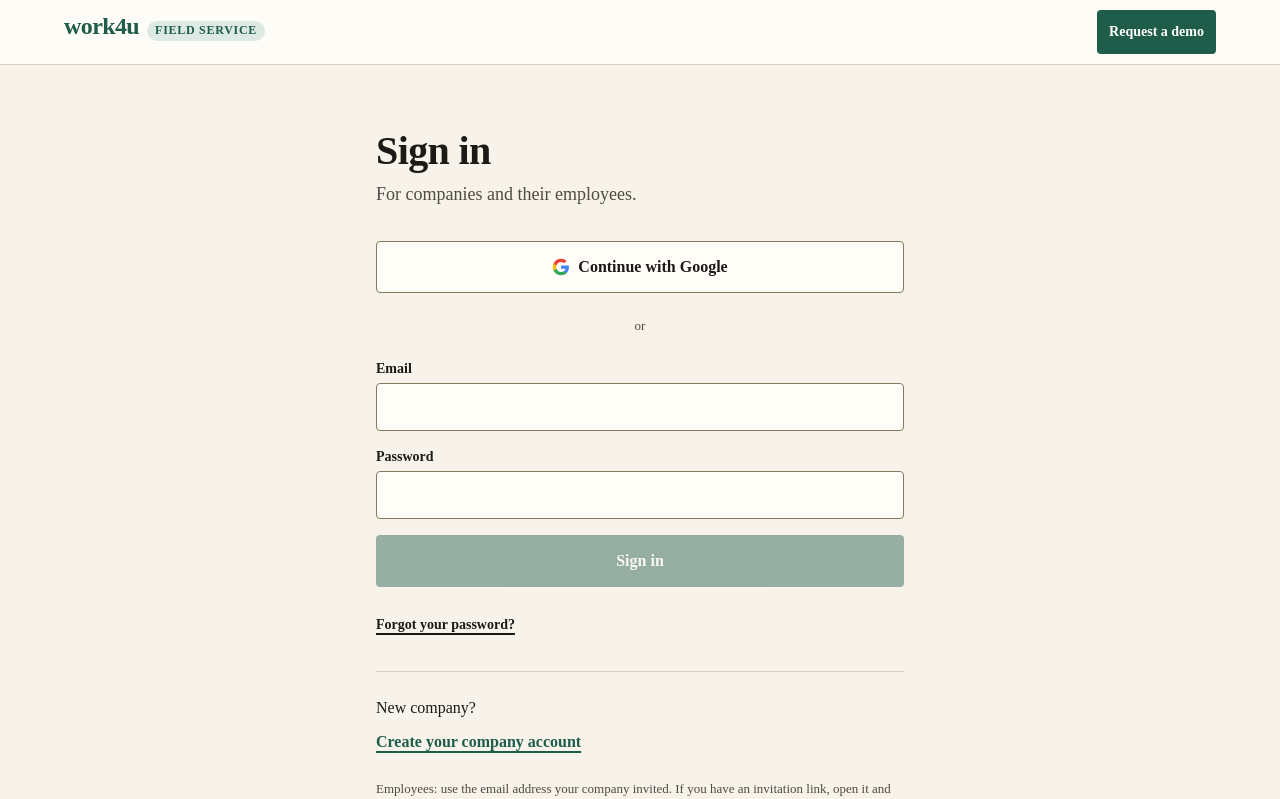
B2B sign-in › wrong credentials show a clear message and focus it; a closed Google popup shows nothing
The width and height of the screenshot is (1280, 799).
Type "a@b.co" into the field labelled "Email". click: (640, 407)
box: left=376, top=383, right=904, bottom=431
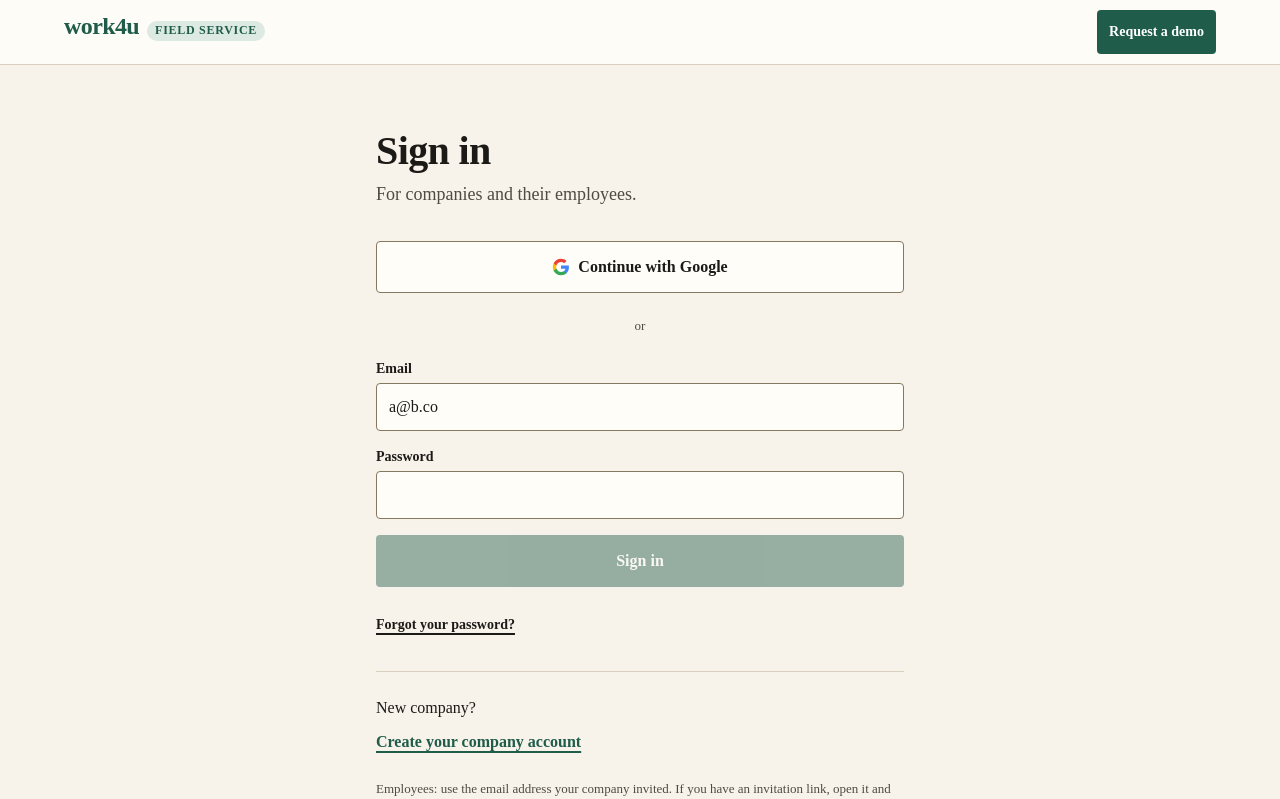
Type "secret123" into the password field labelled "Password". click: (640, 495)
box: left=376, top=471, right=904, bottom=519
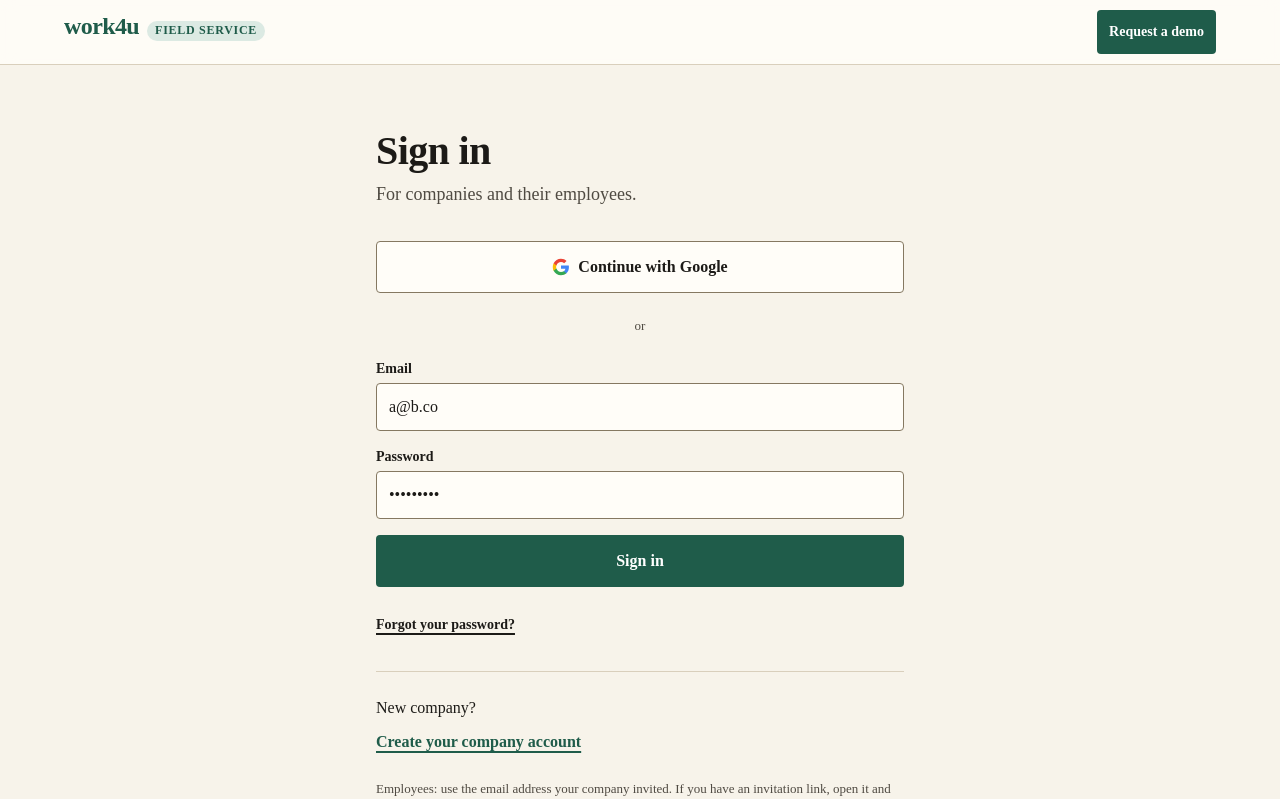
Click the button "Sign in". click: (640, 561)
box: left=376, top=535, right=904, bottom=587
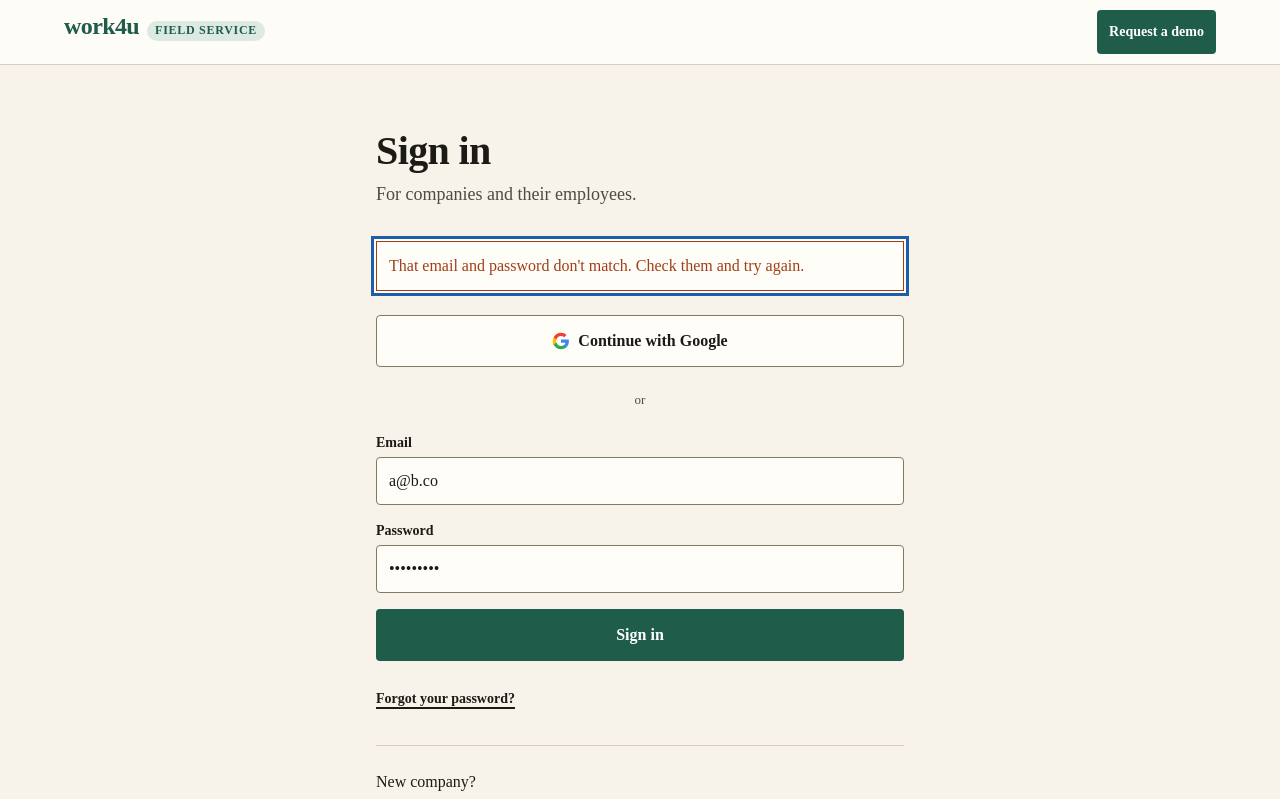
Now the message shows "don't match", box left=389, top=257, right=804, bottom=274
Click the button "Continue with Google". click: (640, 341)
box: left=376, top=315, right=904, bottom=367
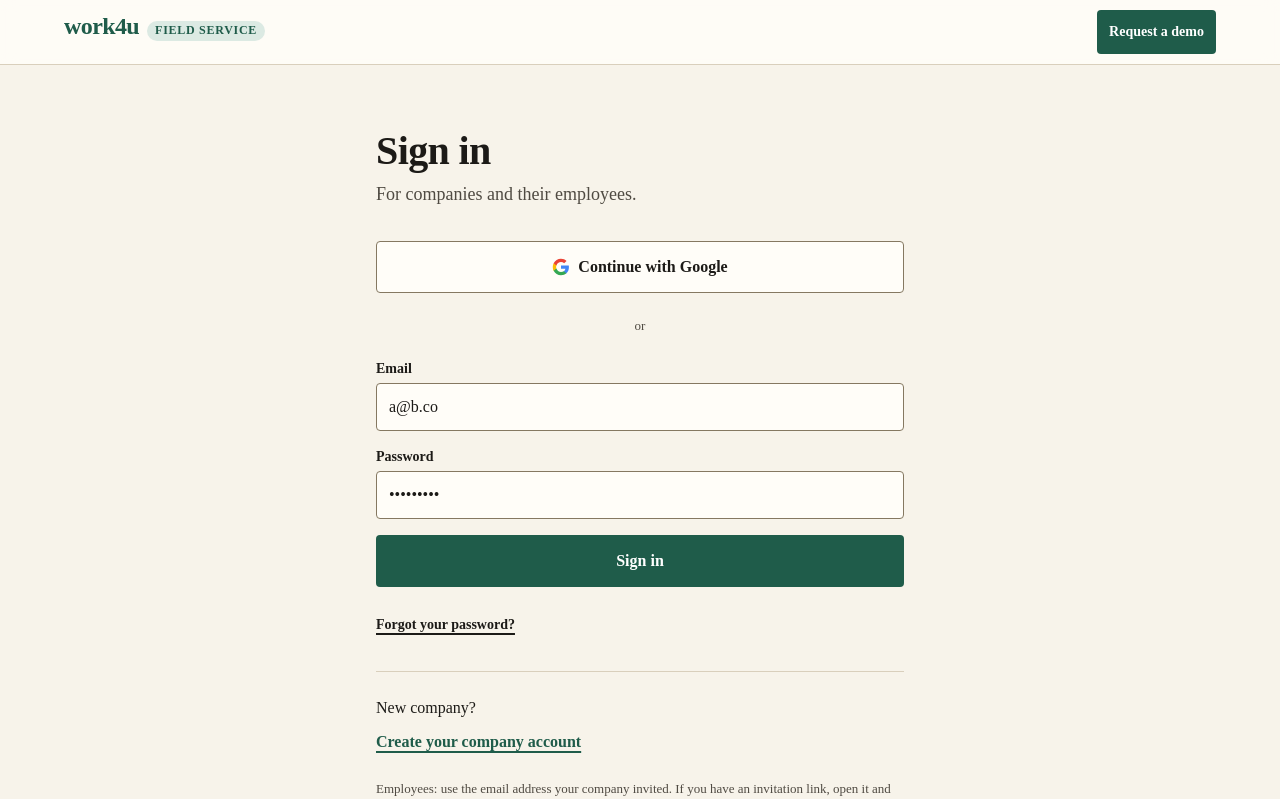
Now the message "That email and password don't match. Check them and try again." is gone
